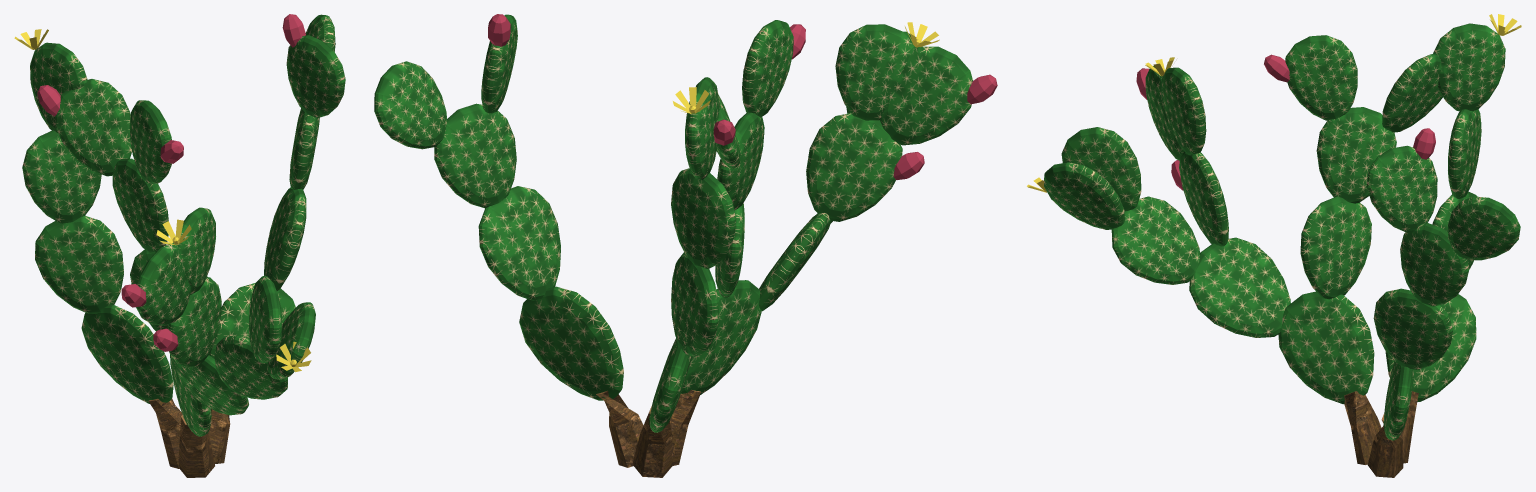
Rendered from prickly_pear_v01.fbx.
3 views of the same model, side by side, from view 1: azimuth 30°, elevation 25°; view 2: azimuth 150°, elevation 25°; view 3: azimuth 270°, elevation 25° (orthographic). The views are drawn at different scales.
Visible parts, largest first — view 1: prickly_pear_v01; view 2: prickly_pear_v01; view 3: prickly_pear_v01.
Boxes of the visible parts, left/top/right/bottom form: prickly_pear_v01: left=14, top=14, right=345, bottom=477; prickly_pear_v01: left=374, top=14, right=997, bottom=477; prickly_pear_v01: left=1027, top=14, right=1521, bottom=477.
Bounding box in the file's own units: 63.35 × 65 × 72.51.
Materials: 4 (2 with a texture image).
